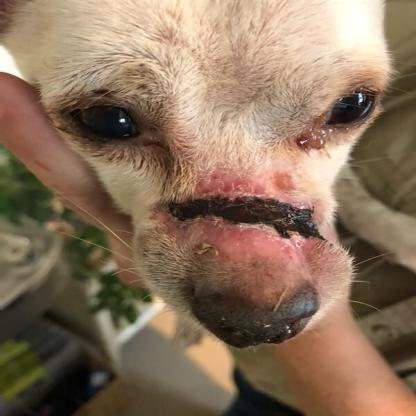dog: (0, 0, 416, 348)
injured: (126, 148, 344, 256)
